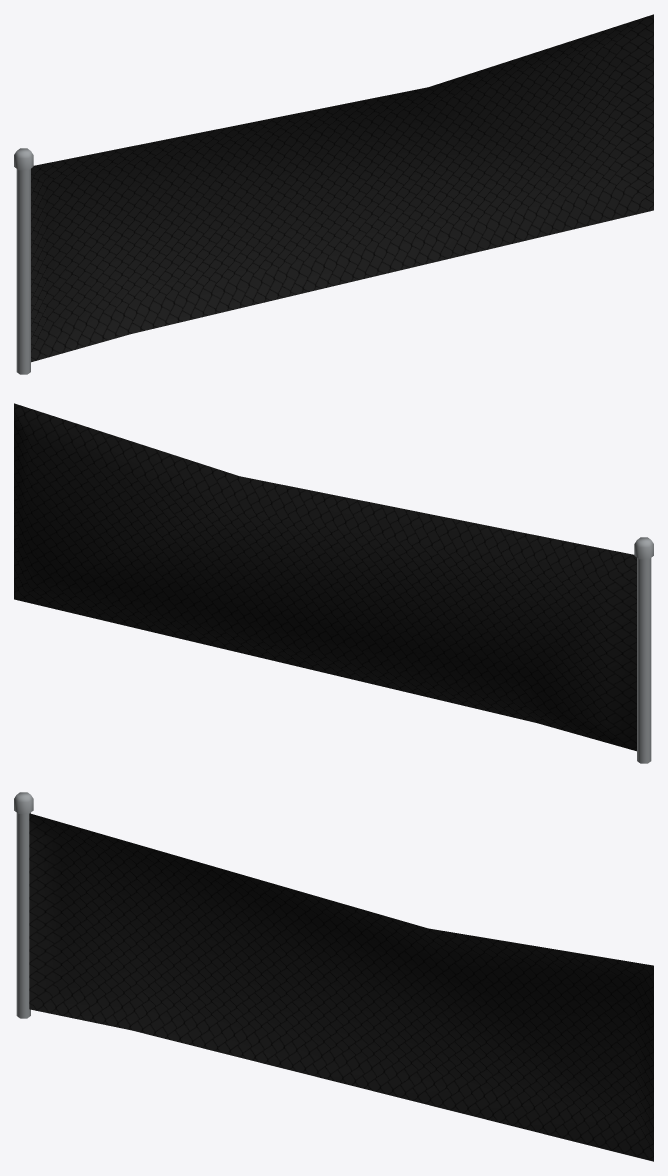
The model's file is fence.fbx.
3 renders of one model, top to bottom at view 1: azimuth 30°, elevation 25°; view 2: azimuth 150°, elevation 25°; view 3: azimuth 330°, elevation 25°, orthographic.
Visible parts, largest first — view 1: Group1, Group2; view 2: Group1, Group2; view 3: Group1, Group2.
Boxes of the visible parts, x1=… form: Group1: x1=31, y1=14, x2=653, y2=362; Group2: x1=14, y1=148, x2=33, y2=374; Group1: x1=14, y1=403, x2=636, y2=751; Group2: x1=634, y1=537, x2=653, y2=763; Group1: x1=29, y1=813, x2=653, y2=1161; Group2: x1=14, y1=792, x2=33, y2=1018.
Size of the model in its own units: 201 by 66.54 by 6.61.
